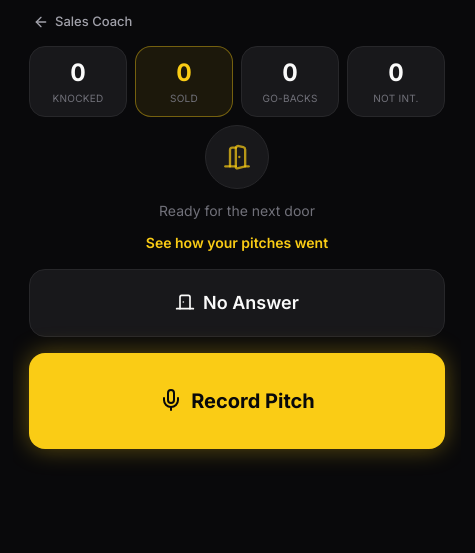
it: DoorLog — the quiet undo › says so when the undo fails — the door is still counted
Click the button "No Answer" at coordinates (237, 302), box 29,268 -> 445,336
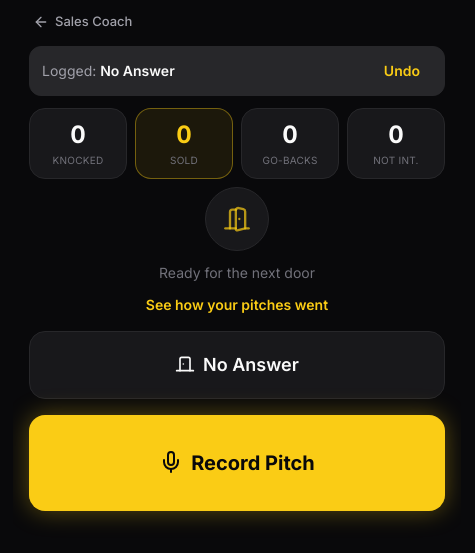
Click the button "Undo" at coordinates (402, 70), box 372,52 -> 432,88
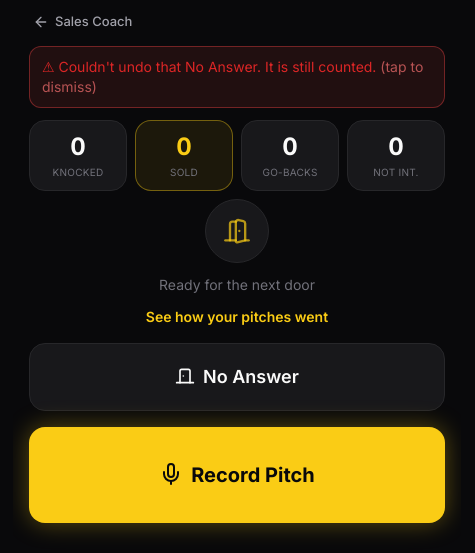
Expected: the button "Couldn't undo that No Answer. It is still counted." is shown, 29,46 -> 445,108
